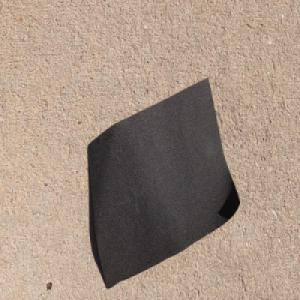PaintChip: (86, 76, 240, 290)
